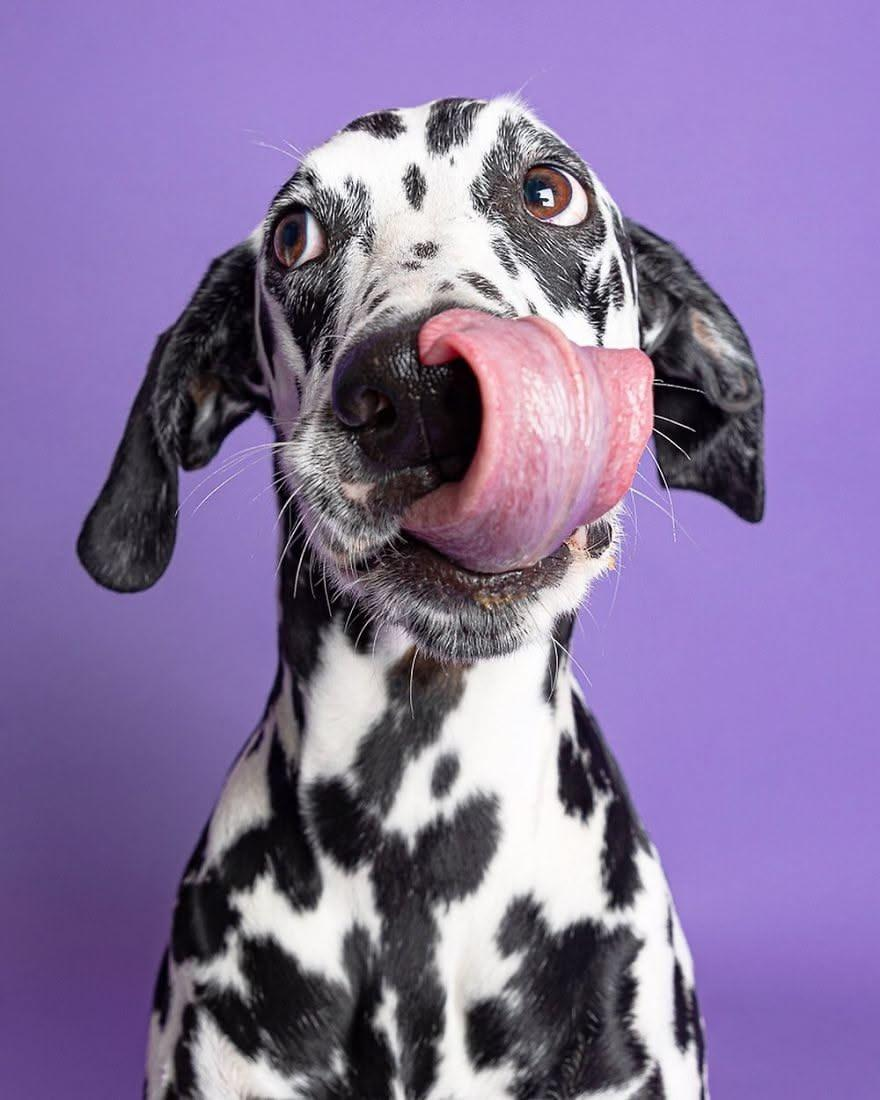adult_dog: (66, 87, 772, 1100)
